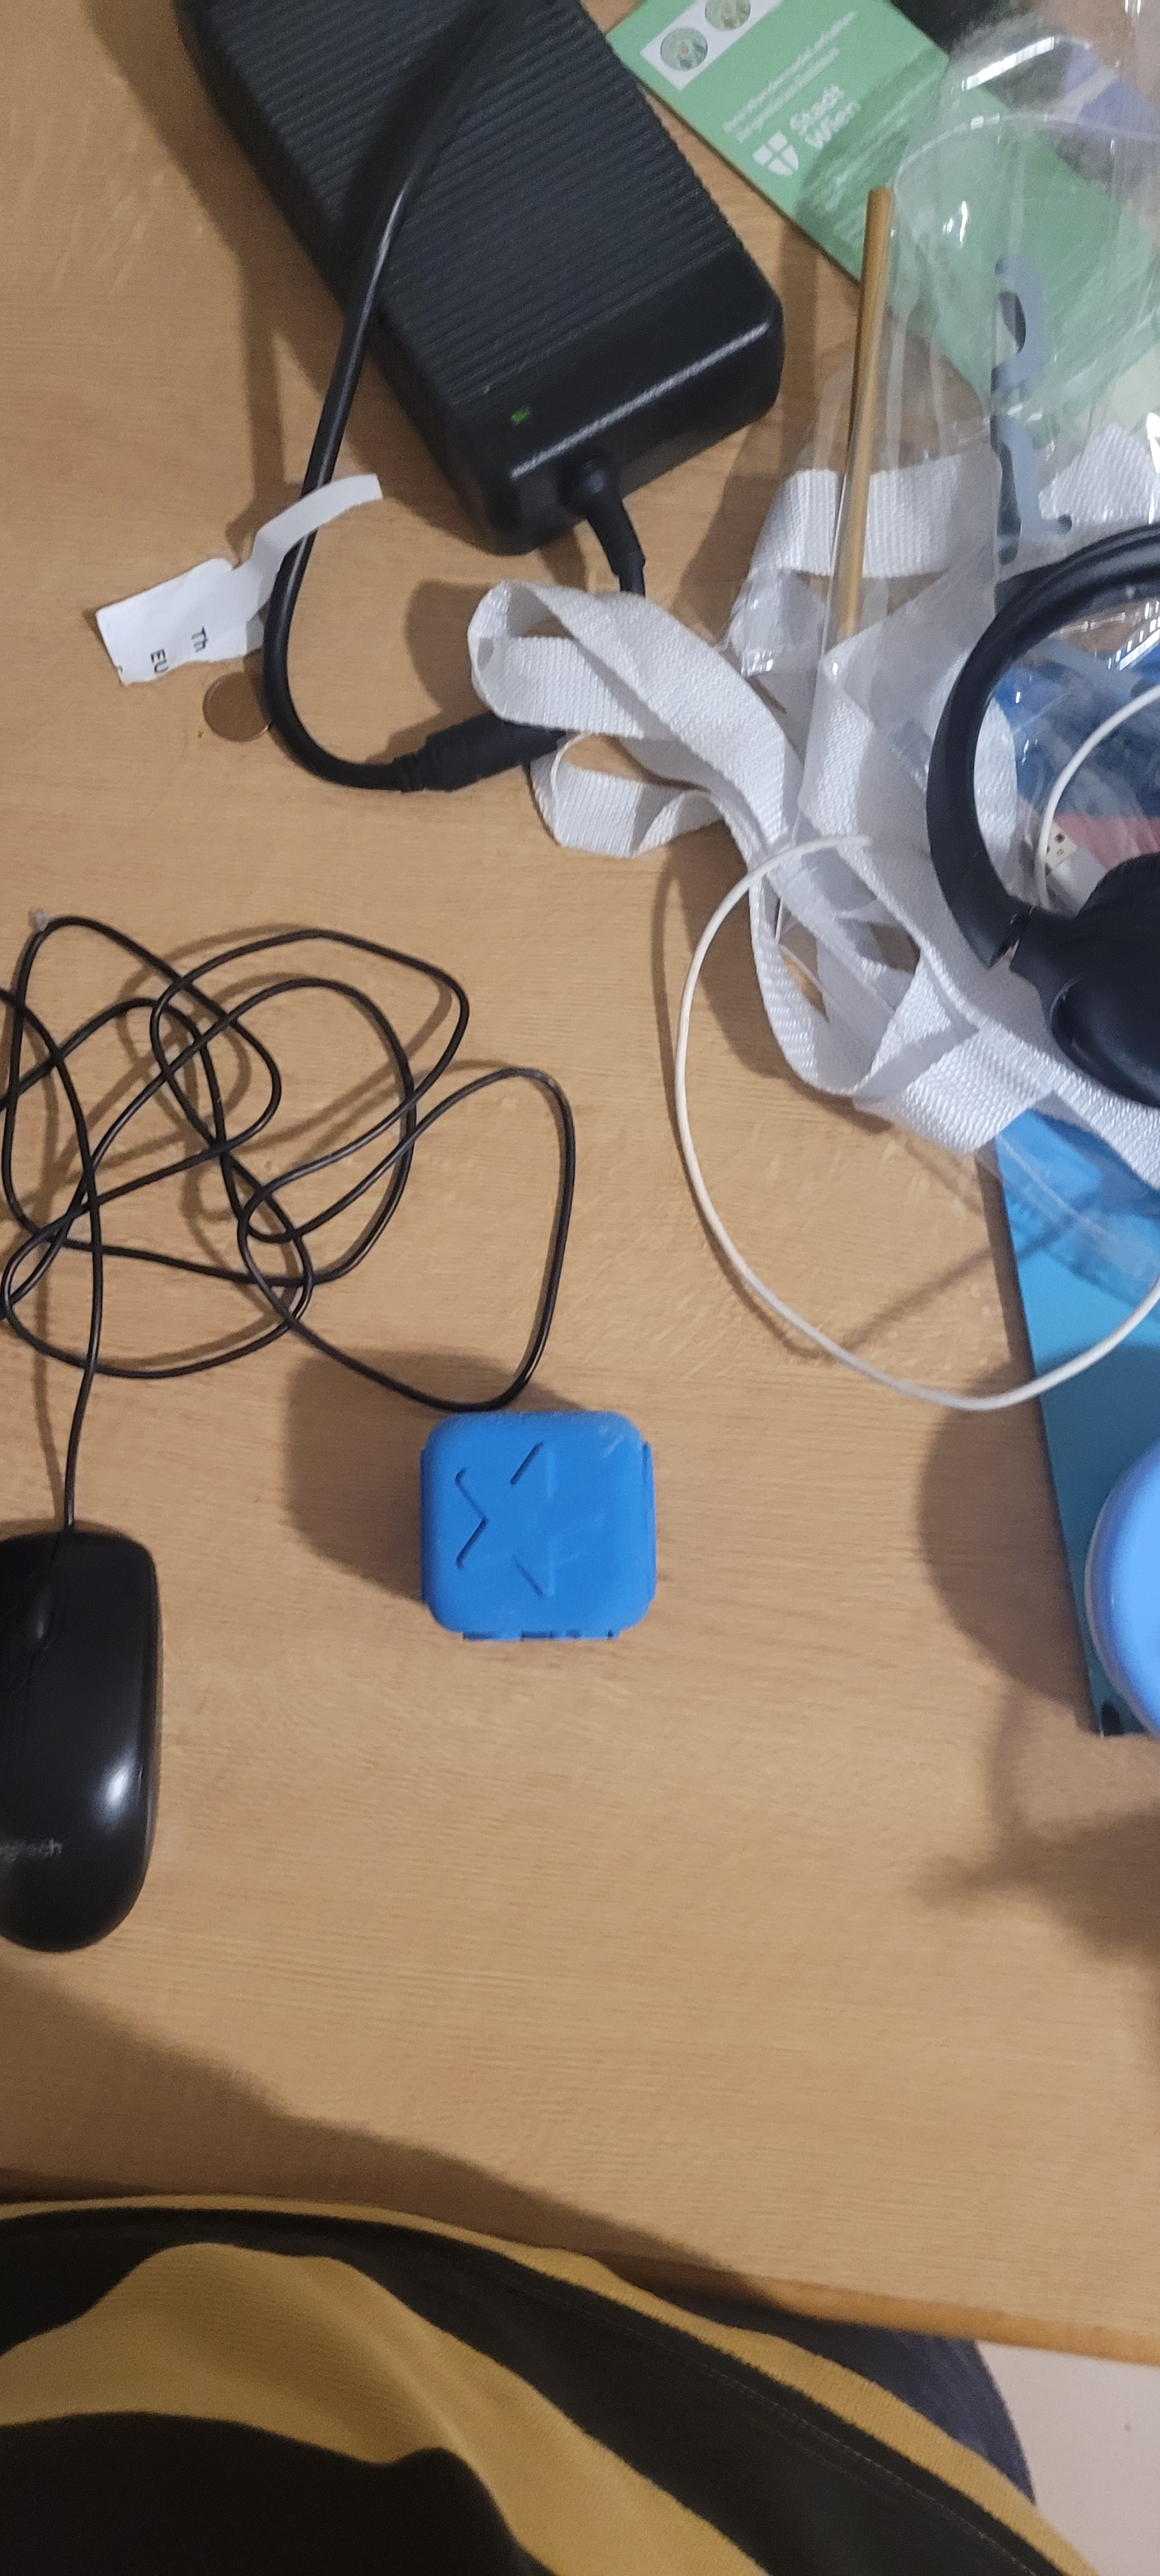Star: (450, 1444, 575, 1602)
